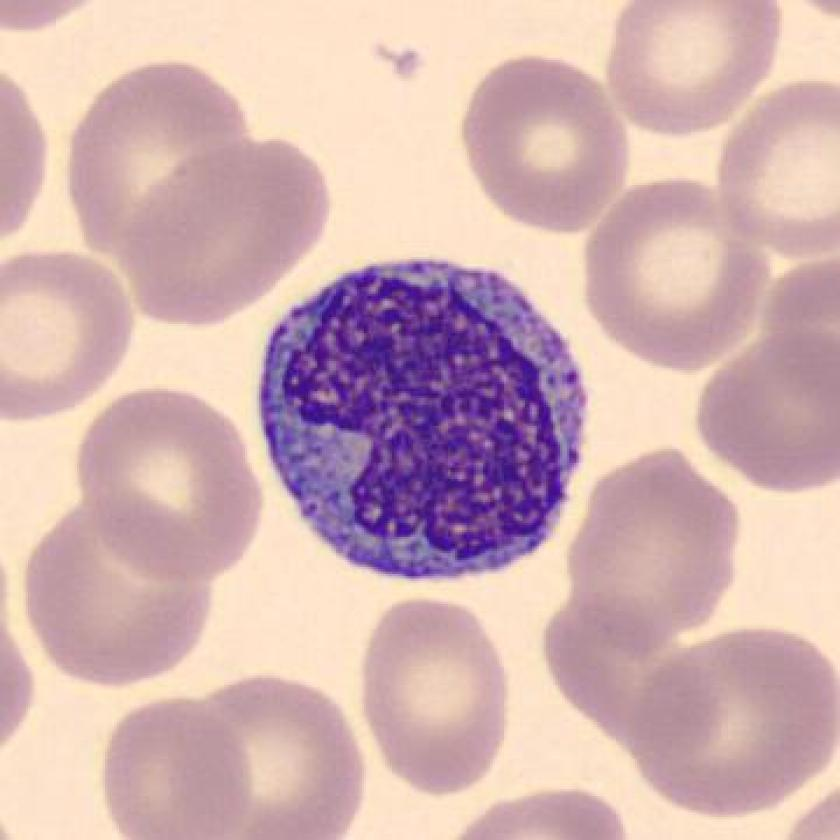monocyte: (244, 240, 608, 608)
